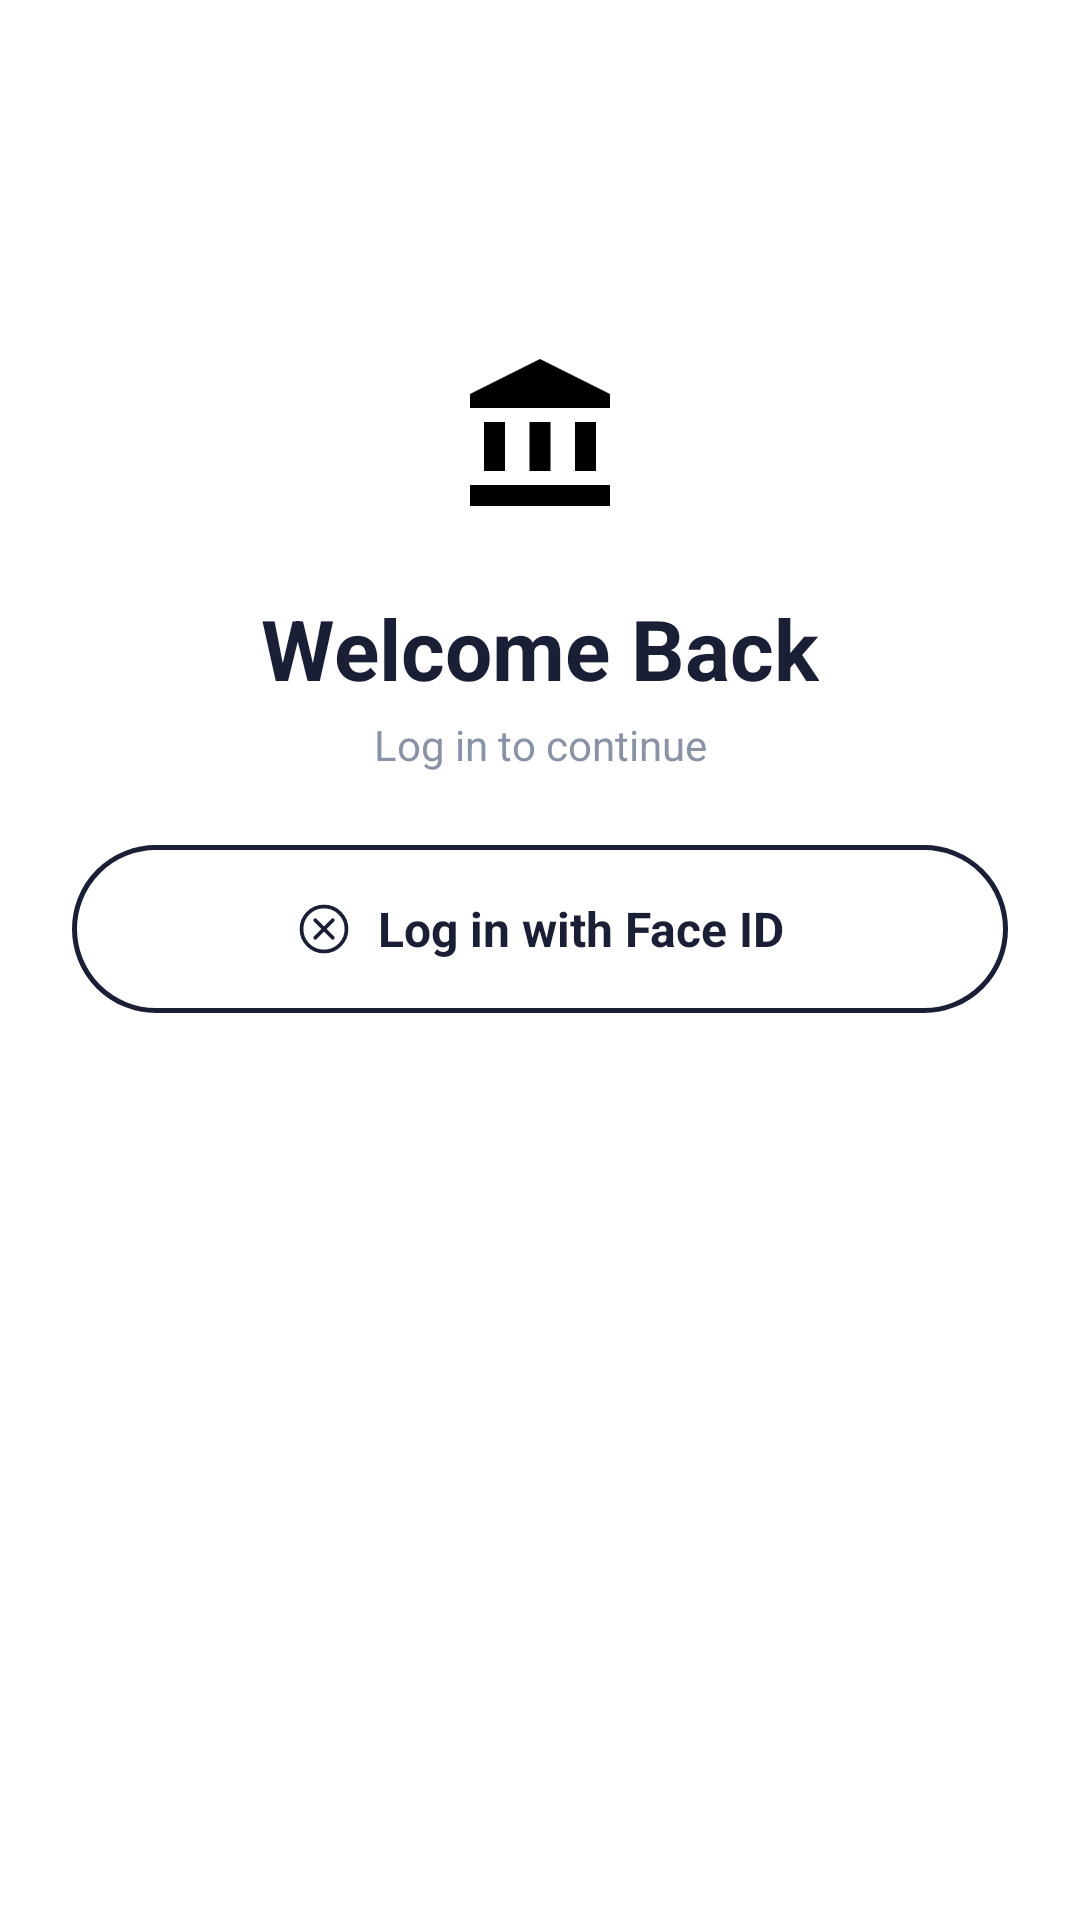

Point at icon controls on the screen. Image size 1080x1920, points as (x,y).
bank: (540,432)
